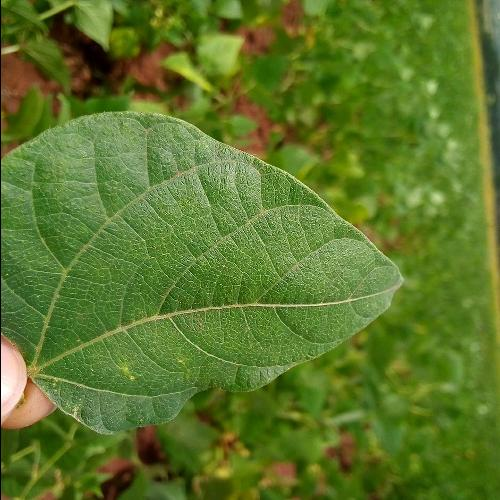sehat: (39, 152, 225, 364)
